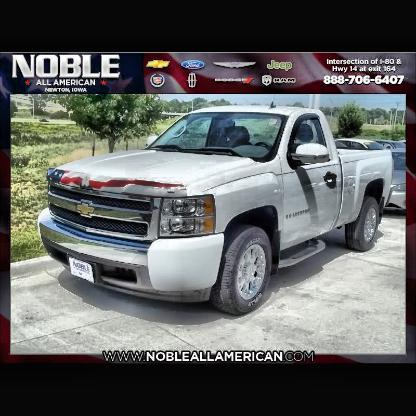Chevrolet Silverado 1500 Regular Cab 2012: (37, 104, 396, 320)
